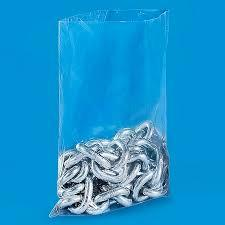Zip plastic bag: (50, 9, 180, 217)
